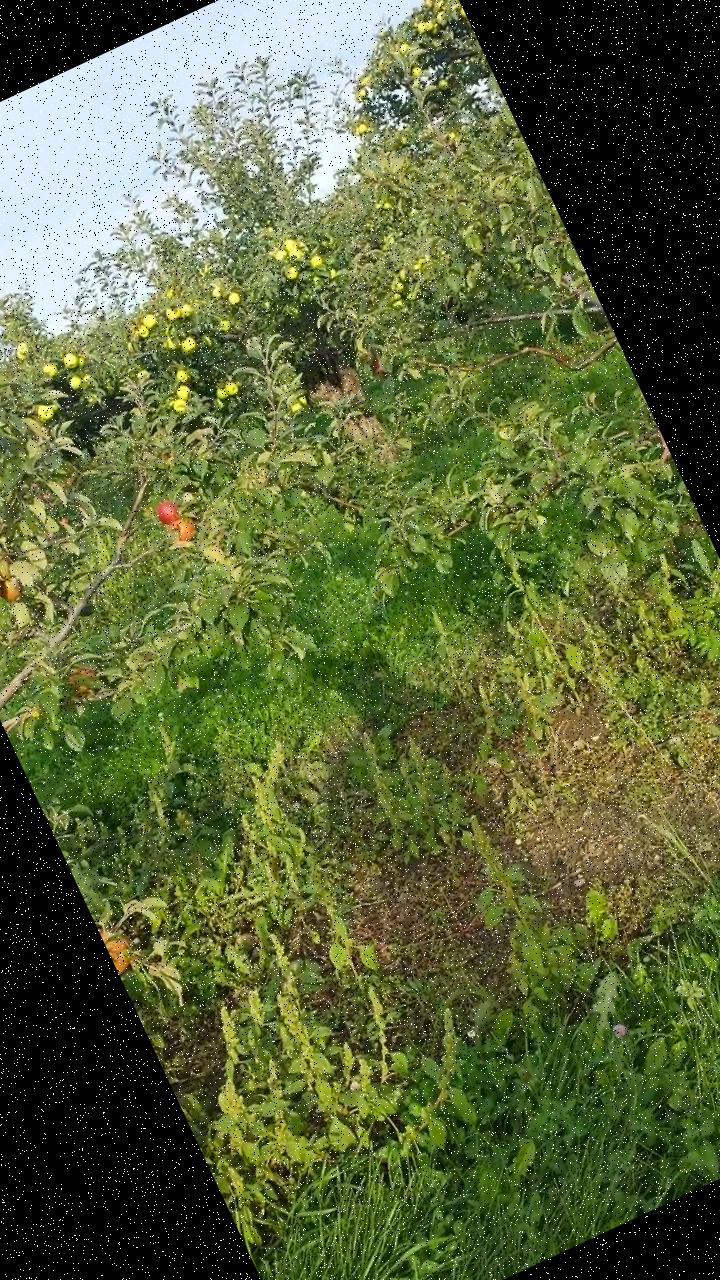Apple: (99, 920, 142, 974), (61, 660, 103, 700), (164, 510, 203, 550), (153, 496, 180, 526), (0, 573, 26, 603), (0, 567, 9, 608)
